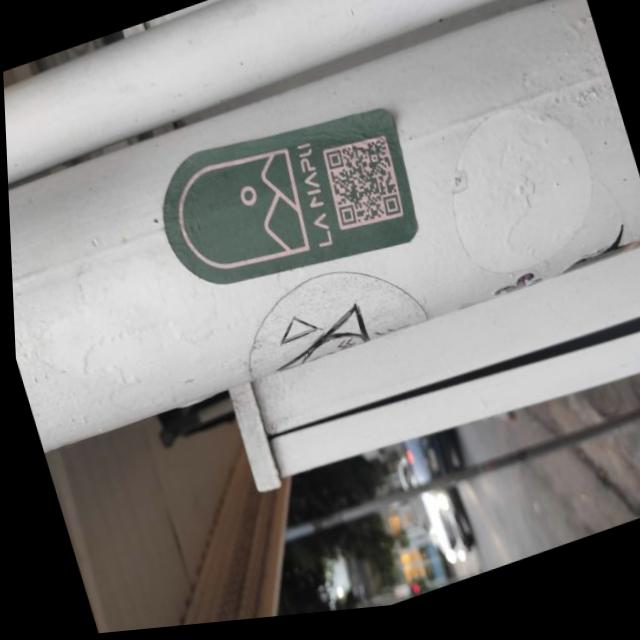qrcode: (319, 139, 404, 240)
